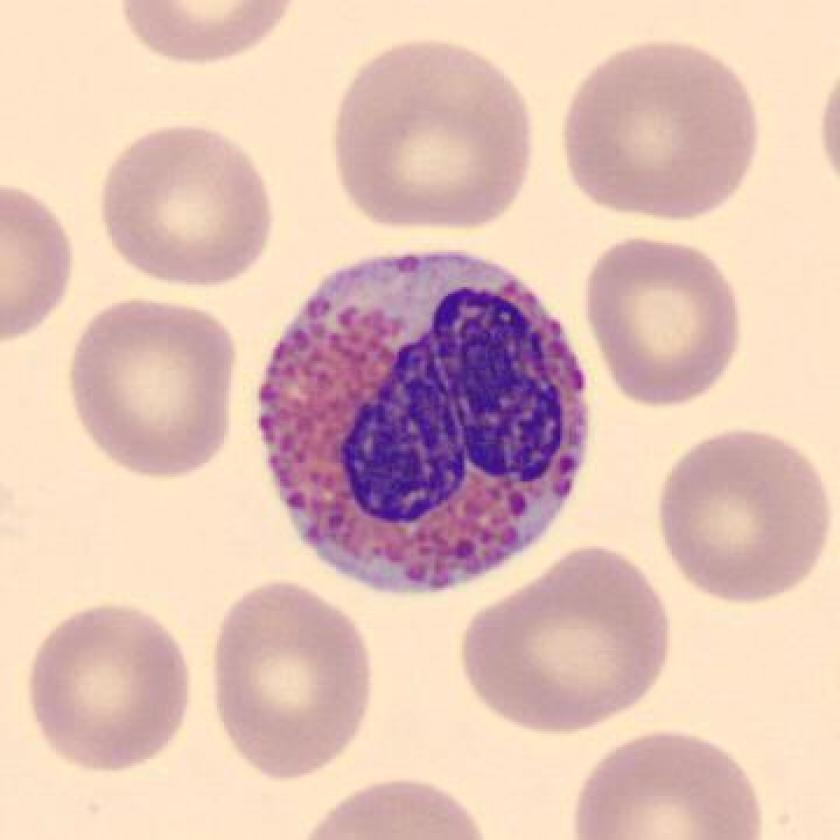eosinophil: (251, 240, 596, 608)
